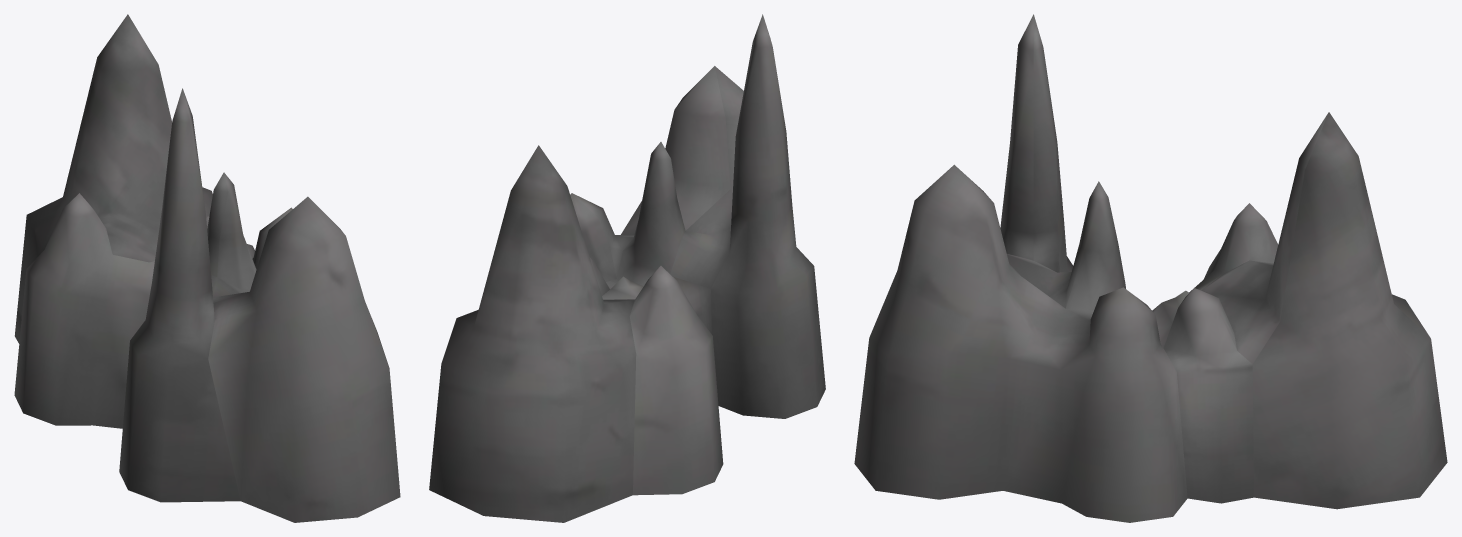
3 views of the same model, side by side, from view 1: azimuth 30°, elevation 25°; view 2: azimuth 150°, elevation 25°; view 3: azimuth 270°, elevation 25° (orthographic). The views are drawn at different scales.
Visible parts, largest first — view 1: body0_model0_lod0_mesh0; view 2: body0_model0_lod0_mesh0; view 3: body0_model0_lod0_mesh0.
Boxes of the visible parts, box(x1,y1,x2,y2) form: body0_model0_lod0_mesh0: box(14, 14, 400, 522); body0_model0_lod0_mesh0: box(429, 14, 825, 522); body0_model0_lod0_mesh0: box(854, 14, 1447, 522).
Size of the model in its own units: 151 by 215 by 286.
1 material, 1 textured.
